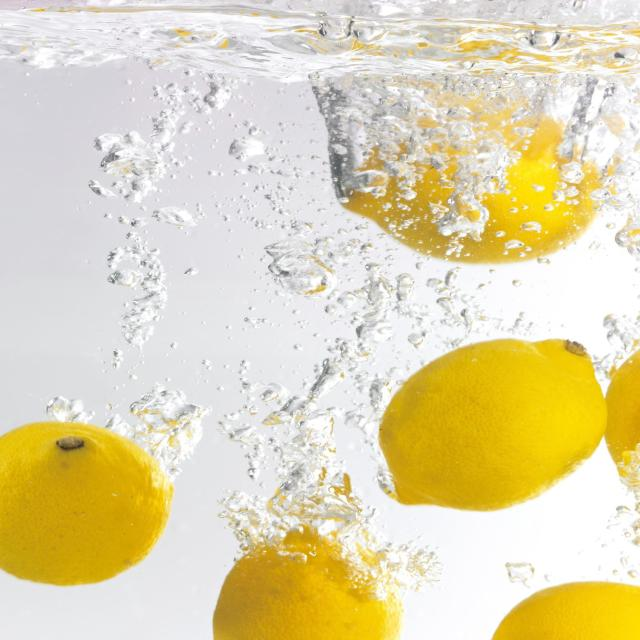lemon: (374, 334, 610, 514)
